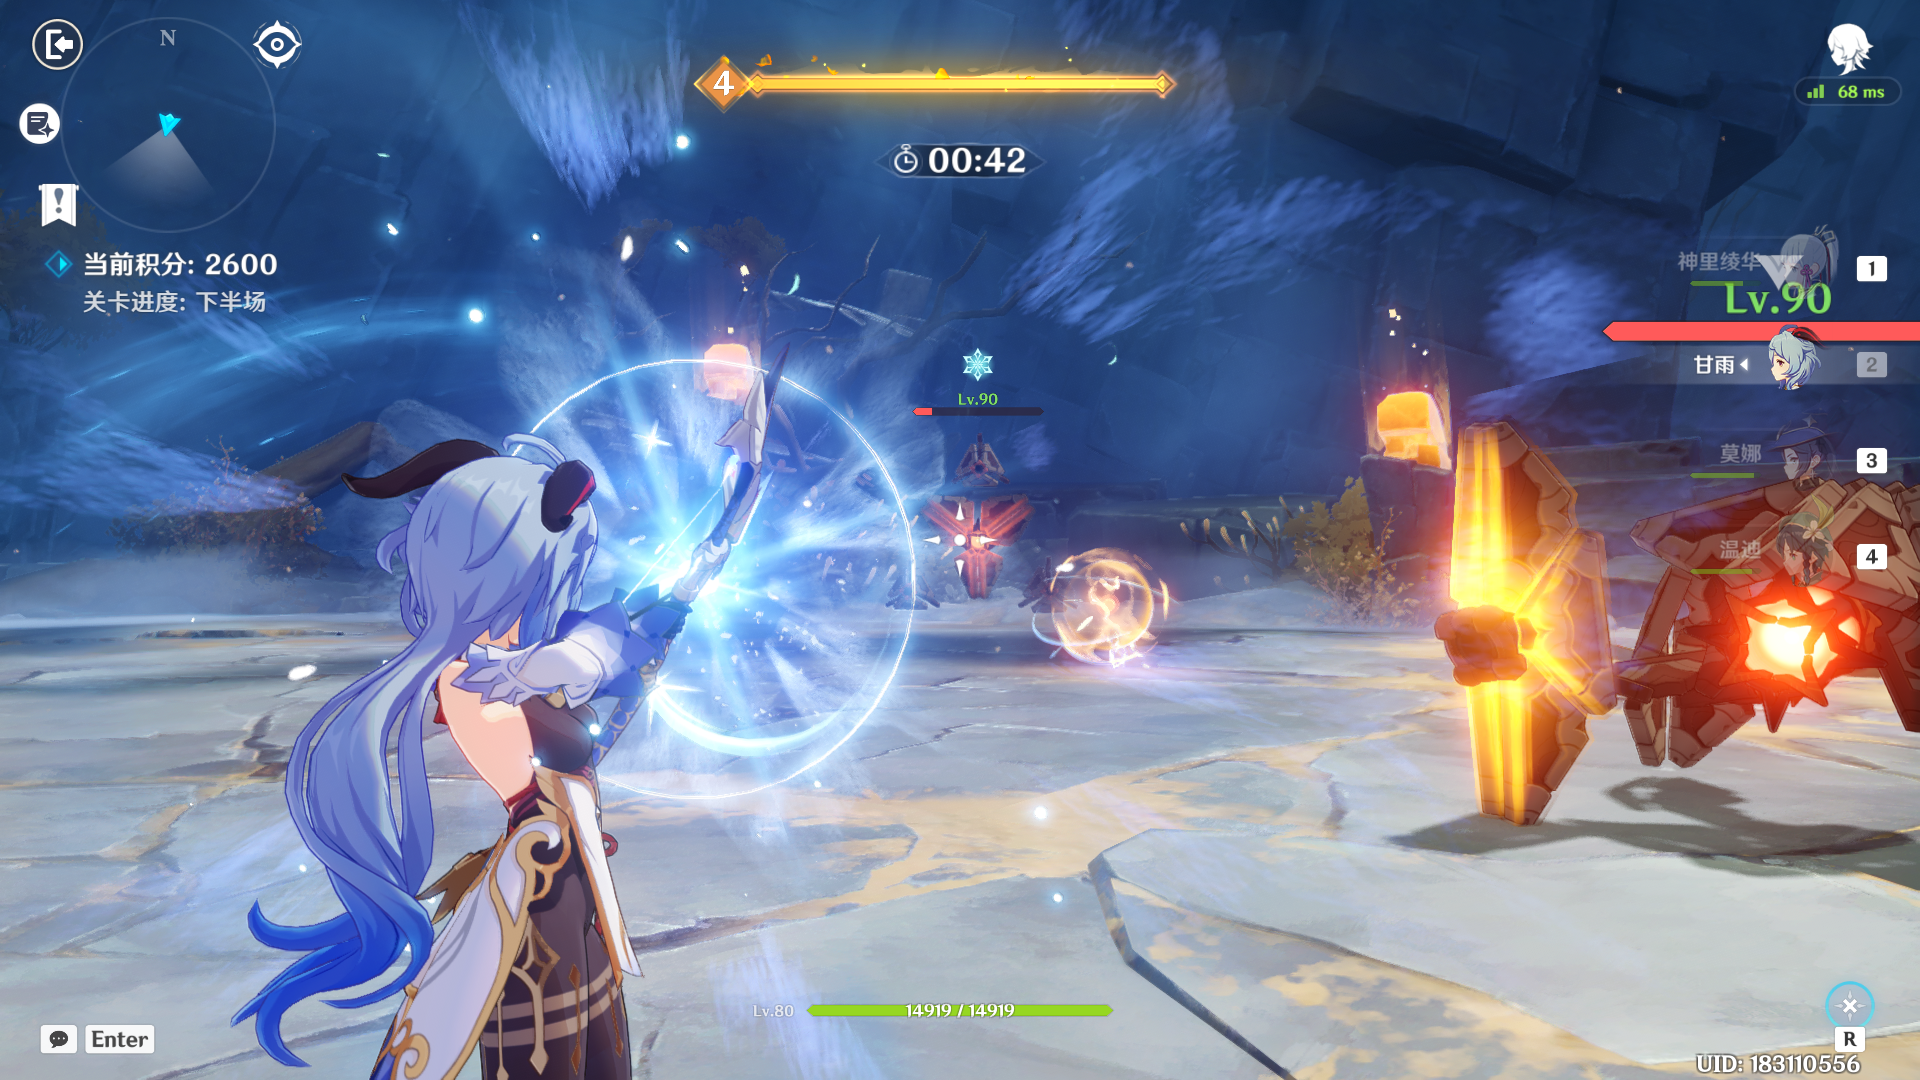character: (229, 413, 708, 1080)
